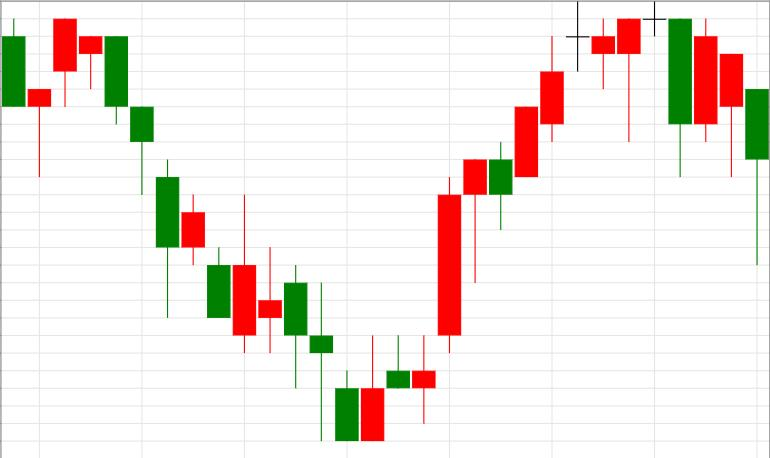bullish_engulfing_rise: (105, 36, 385, 441)
evening_star_fall: (411, 2, 692, 424)
